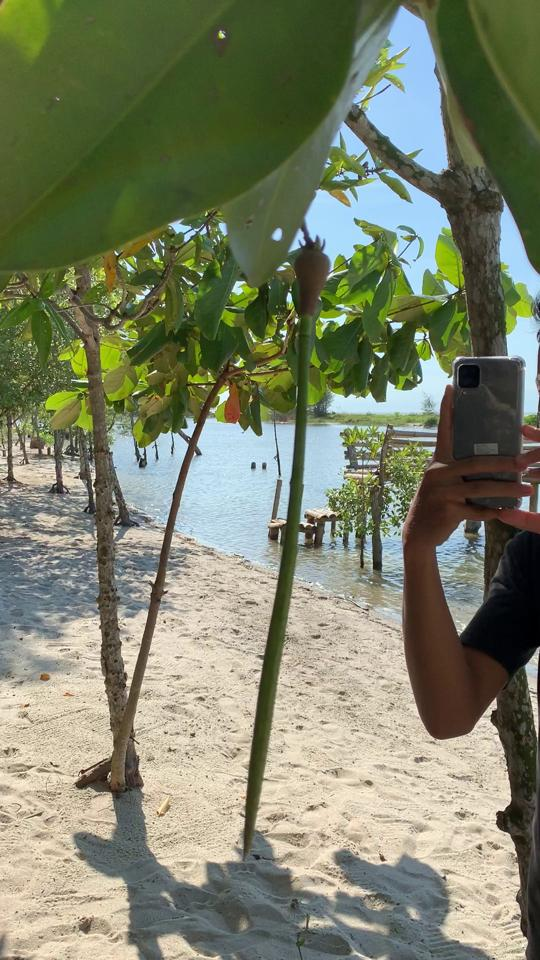setengah matang: (229, 234, 336, 864)
